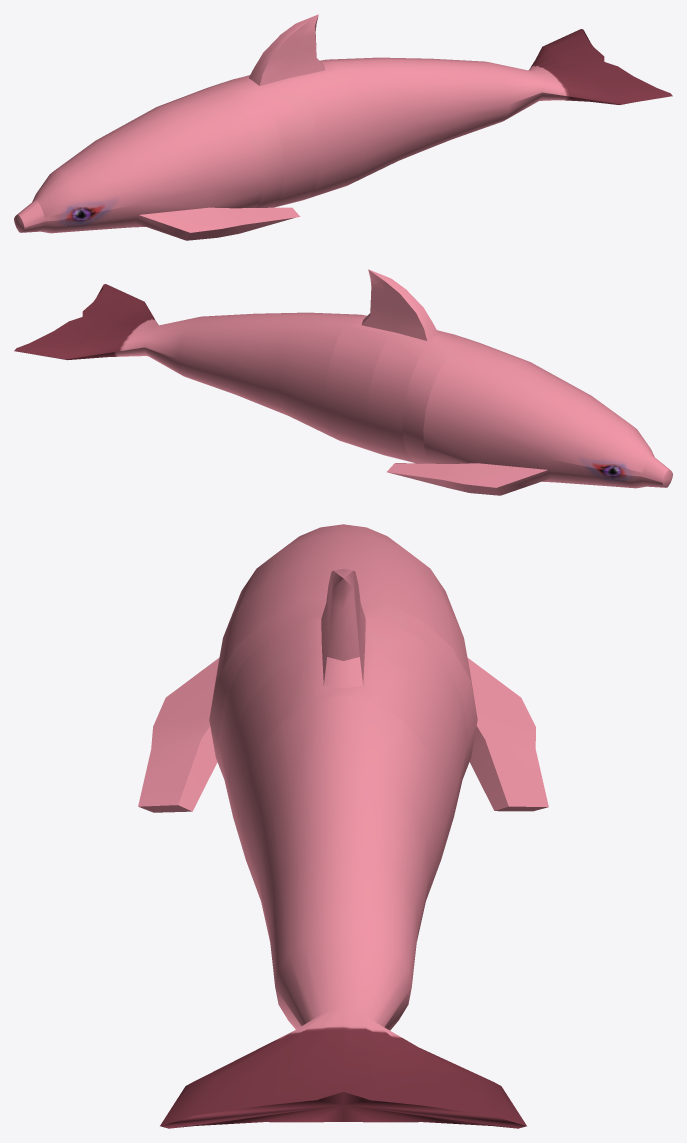
The model's file is dolphin2.fbx.
3 views of the same model, one above another, from view 1: azimuth 30°, elevation 25°; view 2: azimuth 150°, elevation 25°; view 3: azimuth 270°, elevation 25° (orthographic). The views are drawn at different scales.
Visible parts, largest first — view 1: pCylinder5; view 2: pCylinder5; view 3: pCylinder5.
Boxes of the visible parts, x1,y1,x2,y2 form: pCylinder5: (14, 14, 672, 240); pCylinder5: (14, 269, 672, 495); pCylinder5: (138, 524, 548, 1128).
Size of the model in its own units: 9.05 by 2.5 by 2.63.
1 material, 1 textured.
